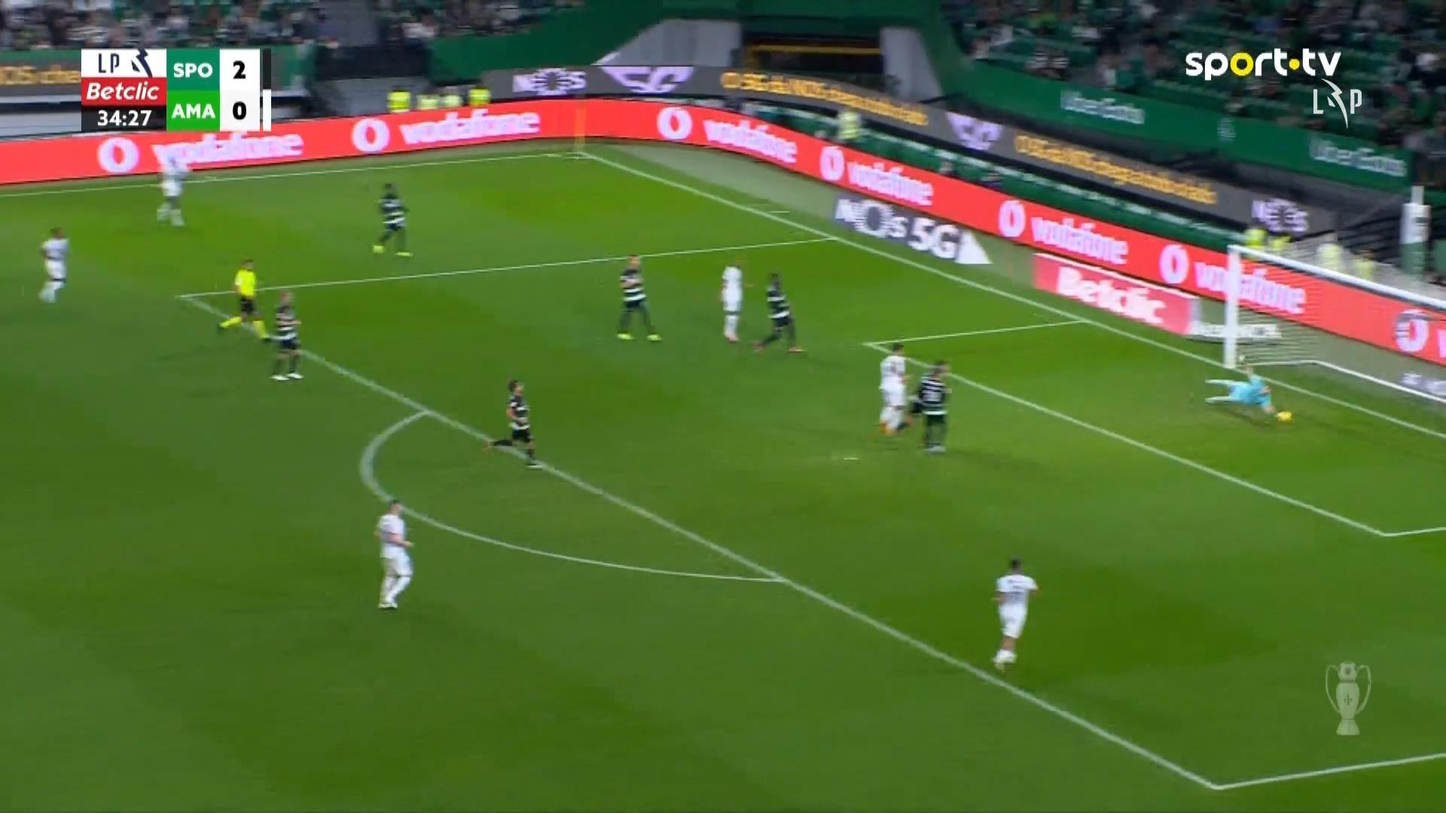ball: (1276, 410, 1292, 422)
goalkeeper: (1203, 367, 1291, 425), (1323, 659, 1371, 735)
player: (990, 556, 1039, 671), (481, 378, 542, 467), (374, 498, 415, 610), (752, 271, 805, 353), (615, 253, 661, 341), (915, 358, 953, 452), (876, 341, 911, 437), (371, 181, 412, 257), (270, 289, 304, 380), (154, 154, 190, 227), (37, 226, 69, 303), (718, 258, 745, 343)
referee: (216, 257, 272, 343)
